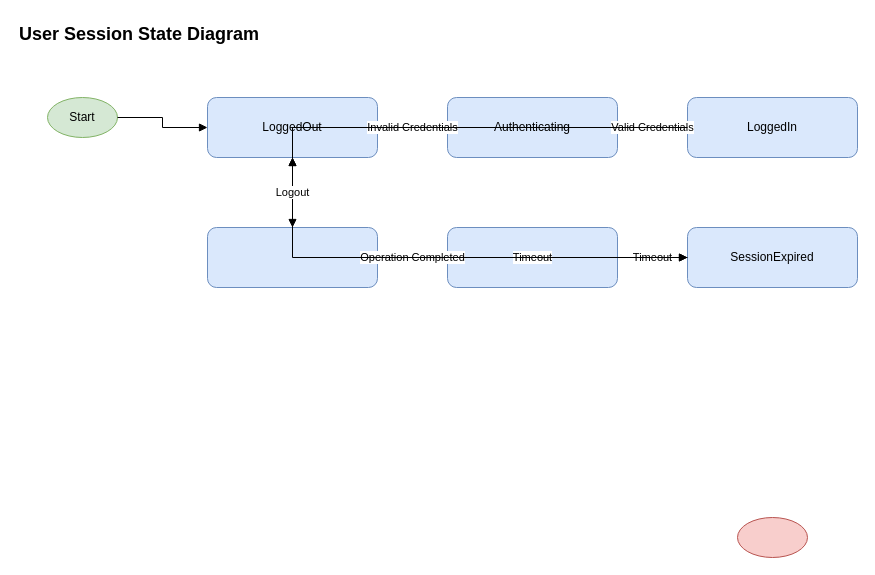
This 875x575 diagram has some shape labels left out. Here are the shapes that lost their labels. From the top down, the centre of each, then its label:
(292,257): Idle
(532,257): PerformingOperation
(772,537): End
